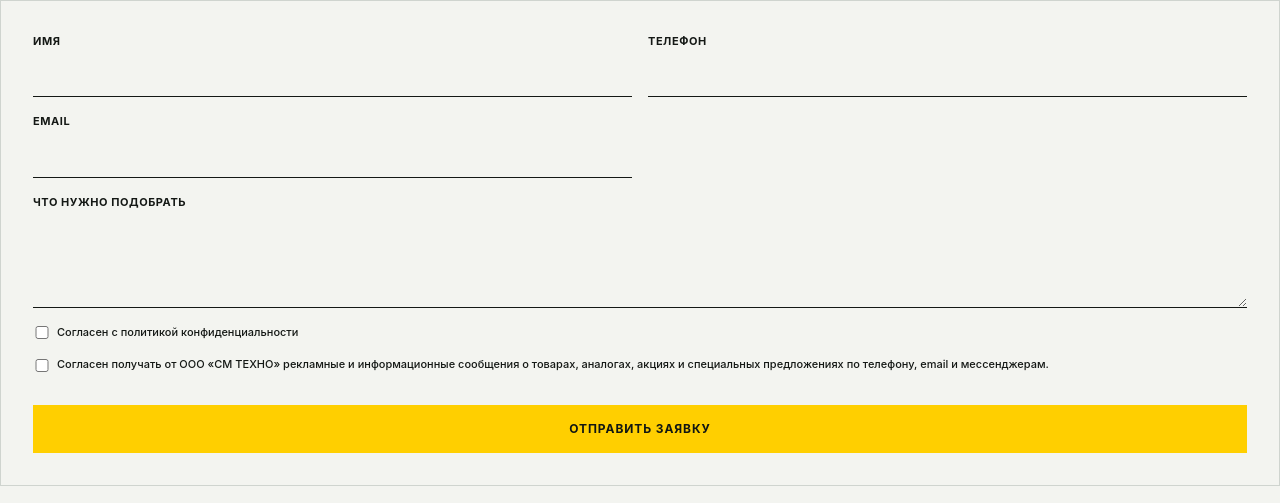
LeadForm › submits the lead and announces success
This screenshot has width=1280, height=503.
Type "Иван" into the field labelled "Имя".
click(332, 77); type("Иван")  # box [33, 56, 632, 97]
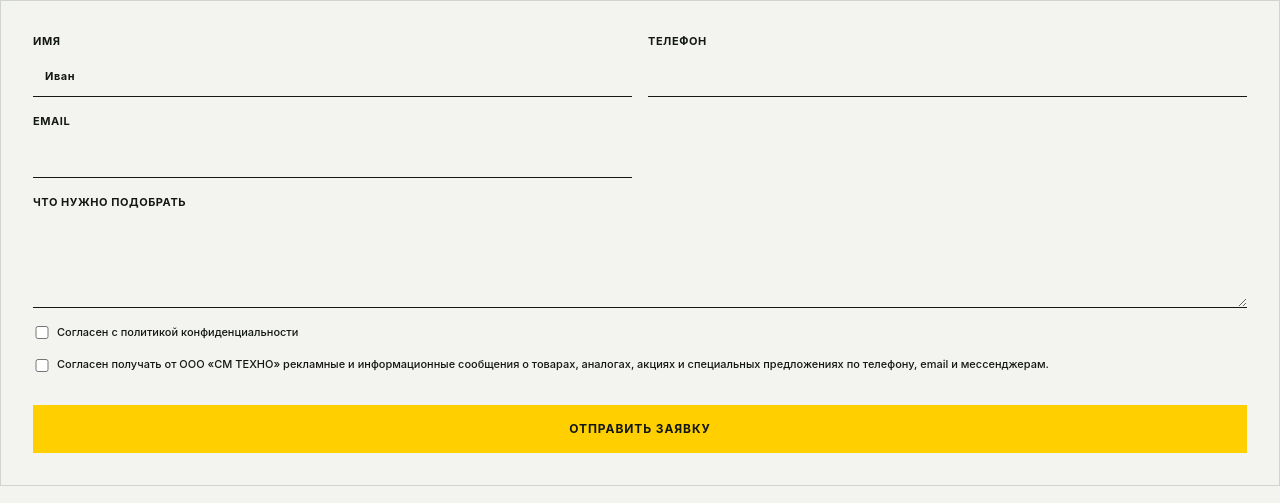
Type "+7 900 000-00-00" into the field labelled "Телефон".
click(948, 77); type("+7 900 000-00-00")  # box [648, 56, 1247, 97]
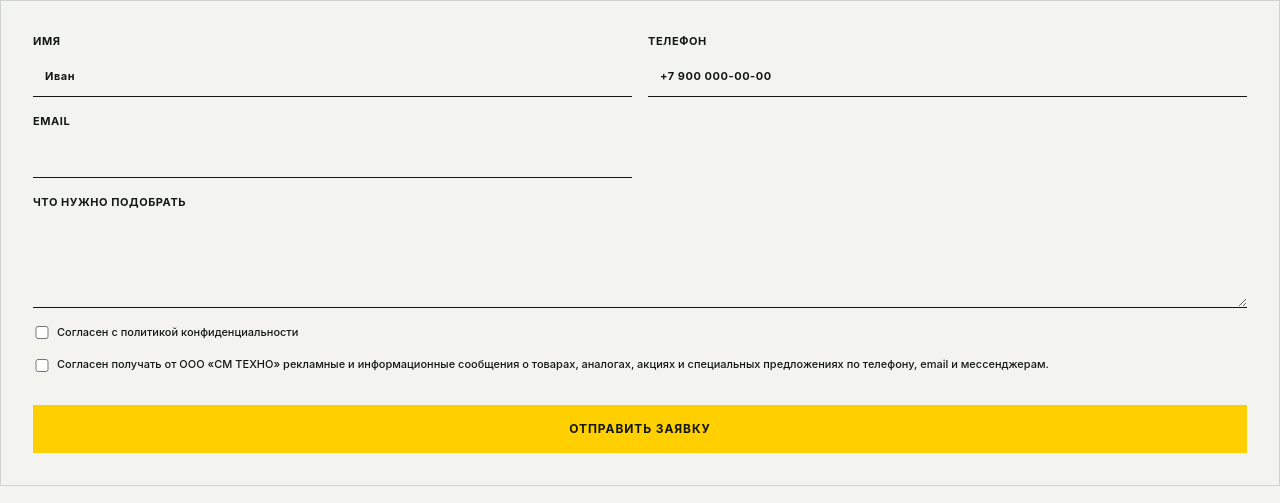
Click the checkbox labelled "Согласен с политикой конфиденциальности".
click(42, 333)  # box [33, 326, 51, 339]
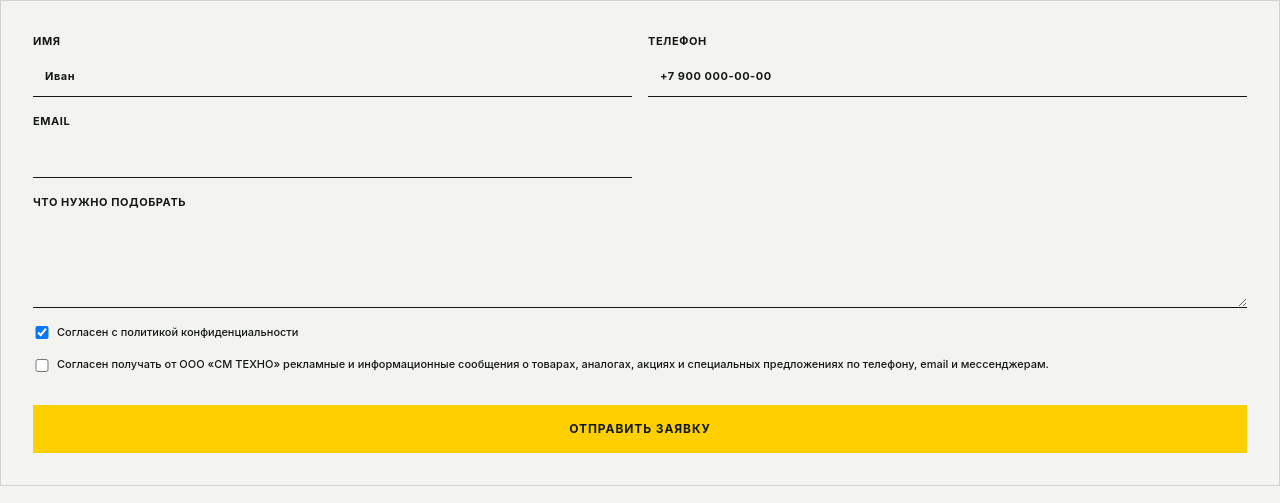
Click the button "Отправить заявку".
click(640, 429)  # box [33, 405, 1247, 453]
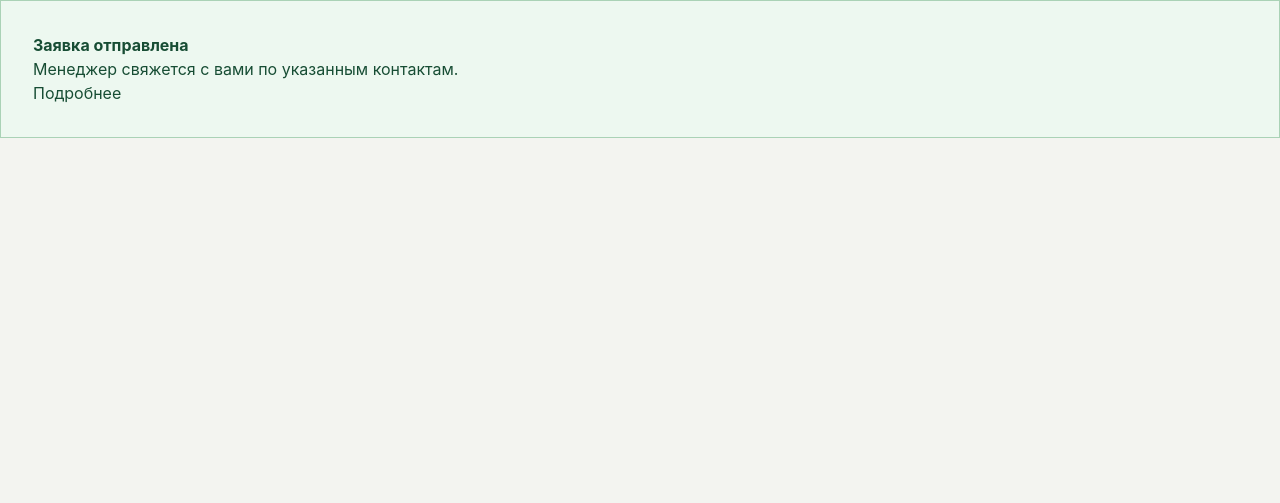
Expected: the message shows "Заявка отправлена", [33, 35, 189, 55]
